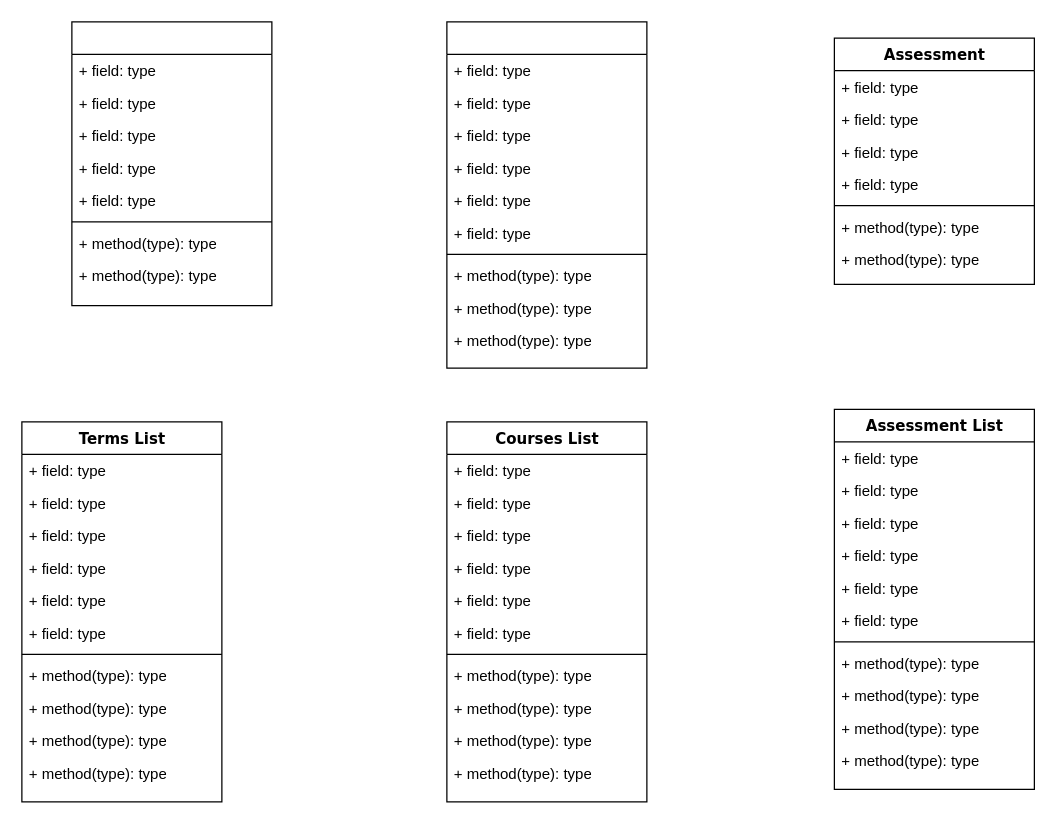
Image size: 1056x824. Some labels were removed from this diagram. The shapes that lost their labels are listed below. From the top down, each one's box as (x1, y1, x2, y2) in pixels, then its label:
(71, 21, 272, 306): Term
(446, 21, 647, 368): Course
